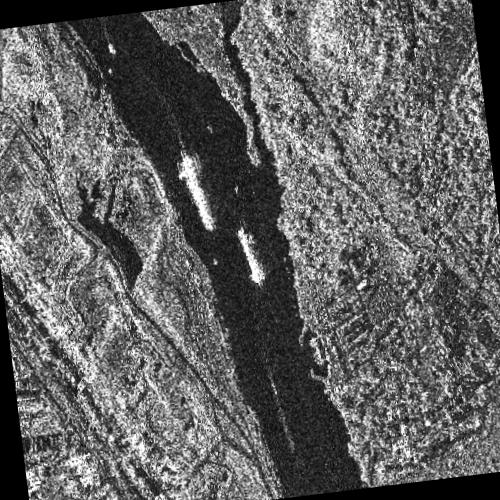ship: (176, 147, 215, 232), (237, 228, 265, 285)
